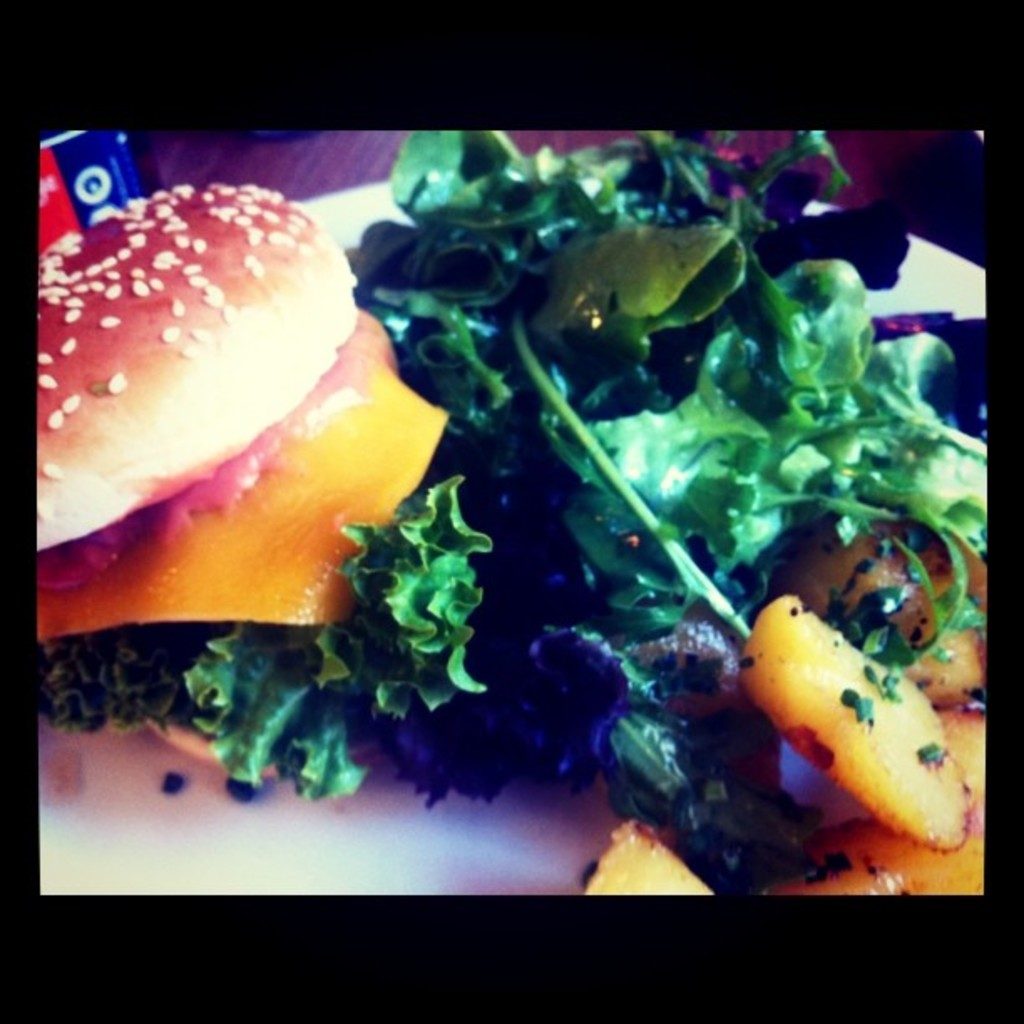Hamburger: (33, 180, 495, 776)
